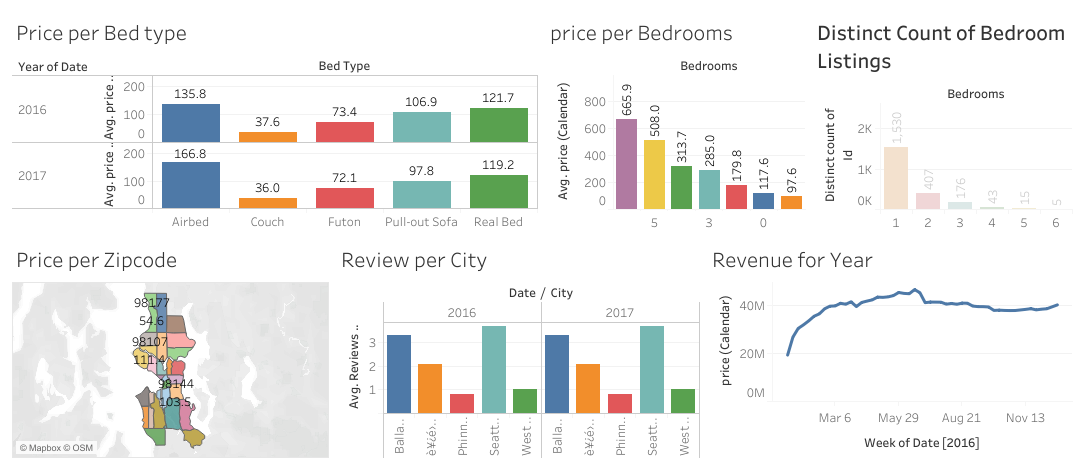

This screenshot's page, from the dashboard's own definition file:
{"tool":"tableau","page":{"name":"Dashboard 1","canvas":[1000,1000],"units":"permille","ordinal":0},"visuals":[{"type":"title","box":[7.4,17,985.2,89.4]},{"type":"worksheet","title":"Sheet 5","mark":"Automatic","rows":["date","price (Calendar)"],"cols":["bed_type"],"box":[7.4,106.4,492.6,438.3]},{"type":"worksheet","title":"Sheet 6","mark":"Automatic","rows":["price (Calendar)"],"cols":["bedrooms"],"box":[500,106.4,246.3,438.3]},{"type":"worksheet","title":"Sheet 7","mark":"Automatic","rows":["id"],"cols":["bedrooms"],"box":[746.3,106.4,246.3,438.3]},{"type":"worksheet","title":"Sheet 2","mark":"Multipolygon","box":[7.4,544.7,299.5,438.3]},{"type":"worksheet","title":"Sheet 1","mark":"Bar","rows":["reviews_per_month"],"cols":["date","city"],"box":[306.9,544.7,342.9,438.3]},{"type":"worksheet","title":"Sheet 4","mark":"Automatic","rows":["price (Calendar)"],"cols":["date"],"box":[649.7,544.7,342.9,438.3]}]}

Visuals, with their boxes on the dashboard's canvas, which has no fixed pixel size, in thousandths of its width and height (x1, y1, x2, y2). These are canvas units, not pixel positions in the 1084x470 screenshot, which may show the page scaled, cropped or inside an application window:
title: 7:17:993:106
"Sheet 5" worksheet: 7:106:500:545
"Sheet 6" worksheet: 500:106:746:545
"Sheet 7" worksheet: 746:106:993:545
"Sheet 2" worksheet (Multipolygon marks): 7:545:307:983
"Sheet 1" worksheet (Bar marks): 307:545:650:983
"Sheet 4" worksheet: 650:545:993:983
